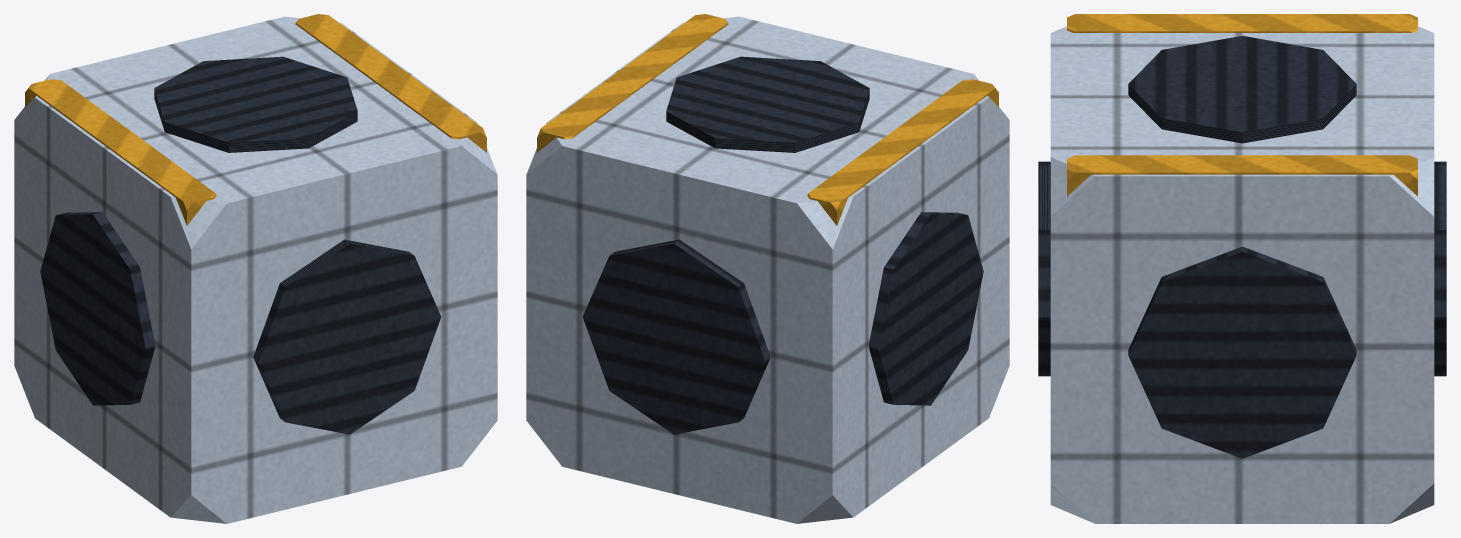
The model's file is mod_hull_cell.glb.
The picture shows the model from 3 angles, left to right: view 1: azimuth 30°, elevation 25°; view 2: azimuth 150°, elevation 25°; view 3: azimuth 270°, elevation 25°; orthographic projection. The views are drawn at different scales.
Visible parts, largest first — view 1: mod_hull_cell; view 2: mod_hull_cell; view 3: mod_hull_cell.
Part boxes in pixels (<box>): mod_hull_cell: <box>14,14,497,523</box>; mod_hull_cell: <box>526,14,1009,523</box>; mod_hull_cell: <box>1038,14,1446,523</box>.
Bounding box in the file's own units: 2 × 2 × 2.
Materials: 1 (1 with a texture image).
